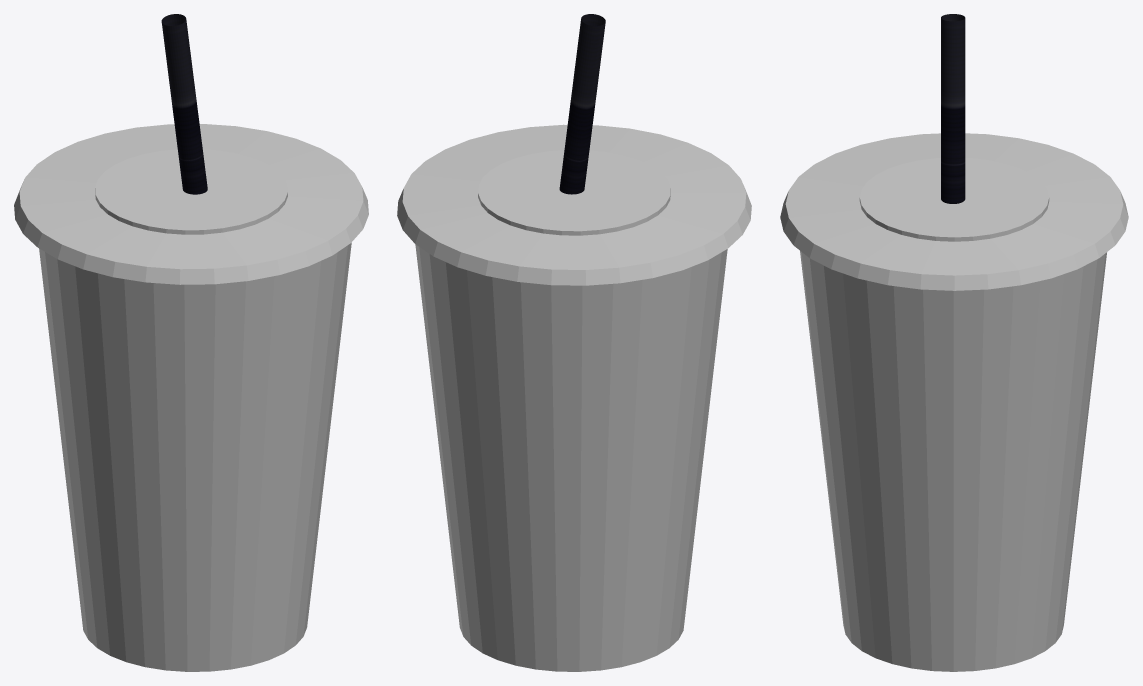
Rendered from sippycupunpainted.obj.
3 views of the same model, side by side, from view 1: azimuth 30°, elevation 25°; view 2: azimuth 150°, elevation 25°; view 3: azimuth 270°, elevation 25° (orthographic). The views are drawn at different scales.
Visible parts, largest first — view 1: cup_Circle, lid_Circle.003, straw_Circle.002; view 2: cup_Circle, lid_Circle.003, straw_Circle.002; view 3: cup_Circle, lid_Circle.003, straw_Circle.002.
Part boxes in pixels (x1,y1,x2,y2): cup_Circle: [39, 243, 351, 671]; lid_Circle.003: [14, 124, 368, 284]; straw_Circle.002: [161, 14, 207, 194]; cup_Circle: [415, 244, 727, 671]; lid_Circle.003: [397, 124, 751, 285]; straw_Circle.002: [559, 14, 605, 194]; cup_Circle: [800, 251, 1106, 671]; lid_Circle.003: [780, 133, 1128, 290]; straw_Circle.002: [941, 14, 965, 203].
Bounding box in the file's own units: 3.16 × 5.99 × 3.16.
